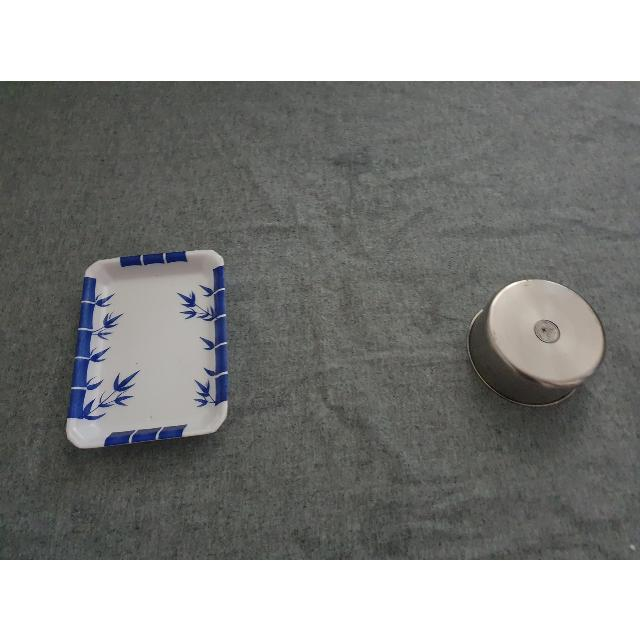Recipiente plastico: (66, 250, 225, 448)
